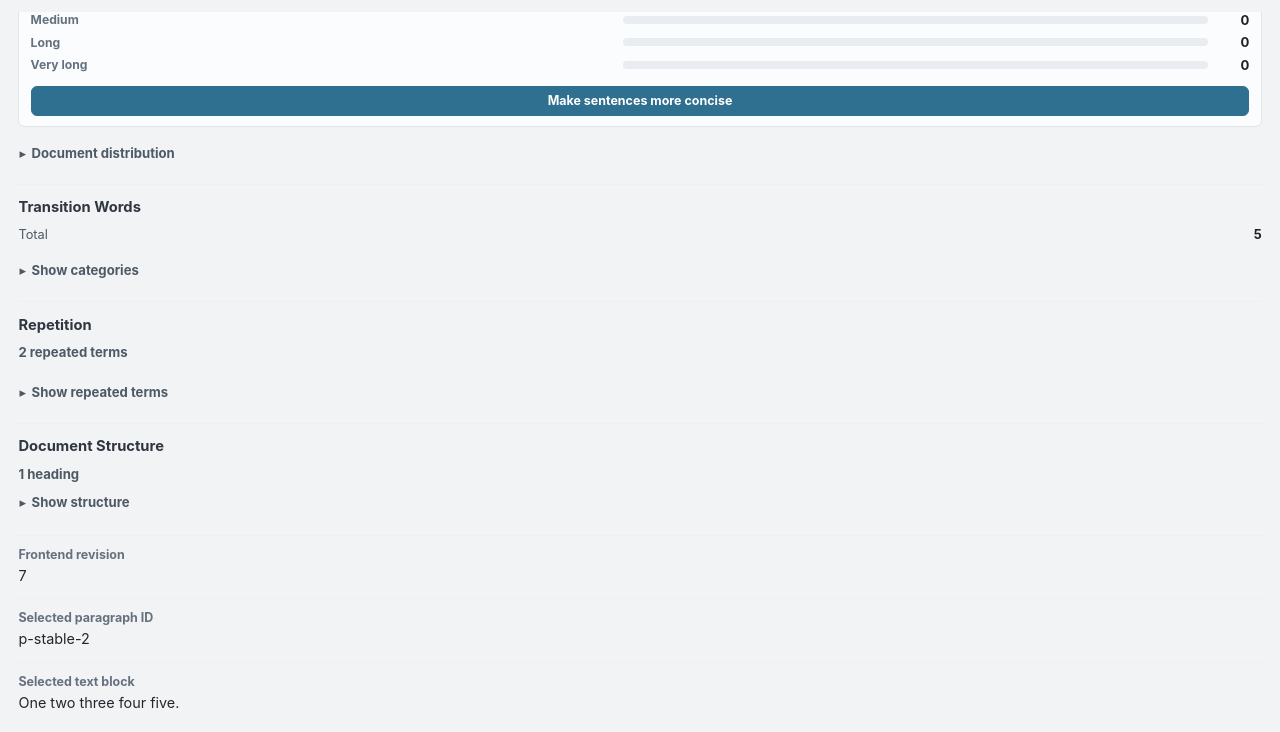
WritingAnalyticsPanel paragraph length focus › does not make heuristic structure entries clickable without explicit node IDs
The image size is (1280, 732).
(page scrolled)
Click the button "▸ Show structure": click(81, 502) x1=18 y1=487 x2=1262 y2=516
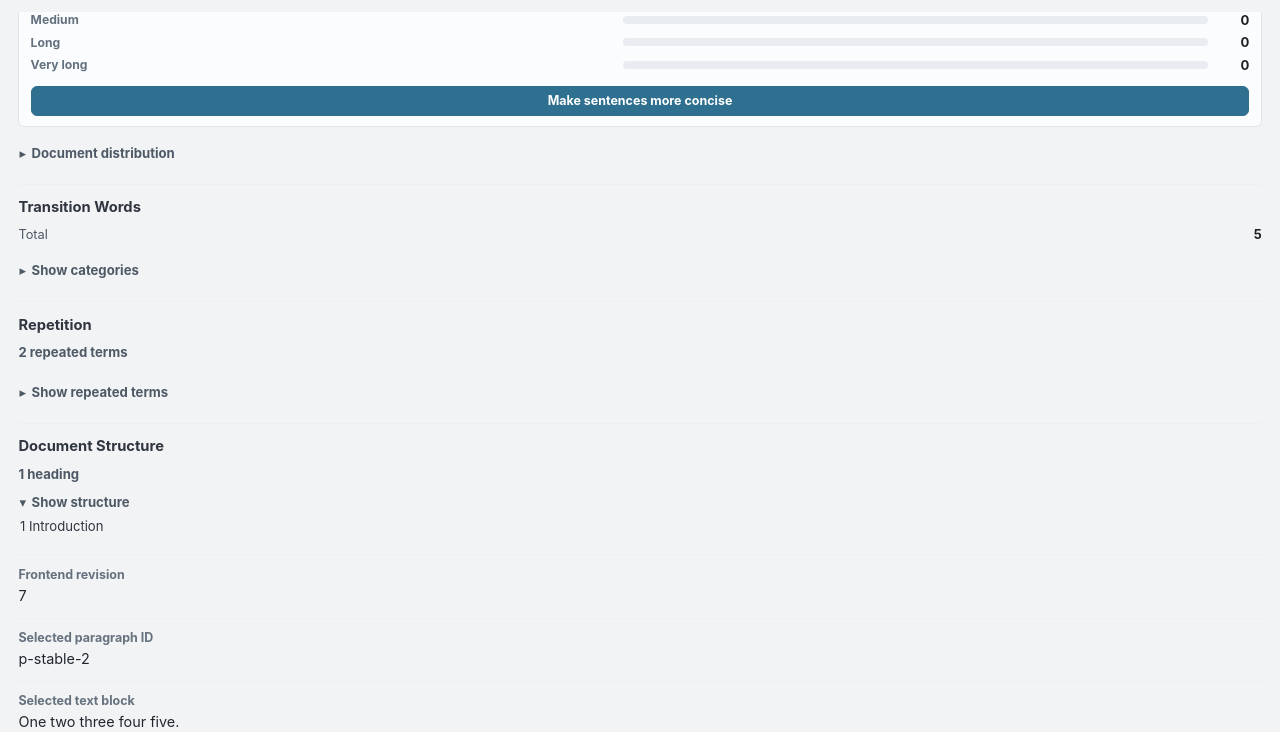
Now the text "1 Introduction" is shown, box x1=20 y1=518 x2=104 y2=534
